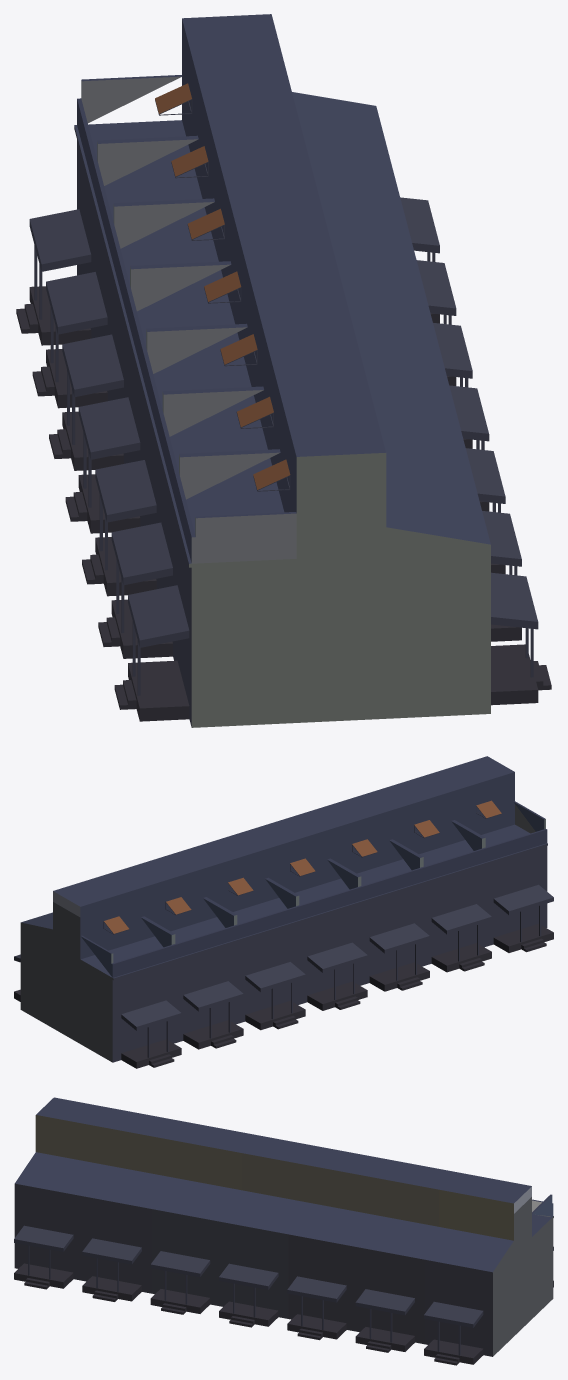
The model's file is adams-town.glb.
3 views of the same model, one above another, from view 1: azimuth 30°, elevation 25°; view 2: azimuth 150°, elevation 25°; view 3: azimuth 270°, elevation 25° (orthographic). The views are drawn at different scales.
Visible parts, largest first — view 1: LOD0; view 2: LOD0; view 3: LOD0.
Part boxes in pixels (x1,y1,x2,y2): LOD0: [16, 14, 551, 727]; LOD0: [14, 756, 553, 1068]; LOD0: [14, 1097, 553, 1365].
Size of what is drawn, in the model's own units: 28.44 by 10.74 by 39.53.
1 material, 1 textured.
